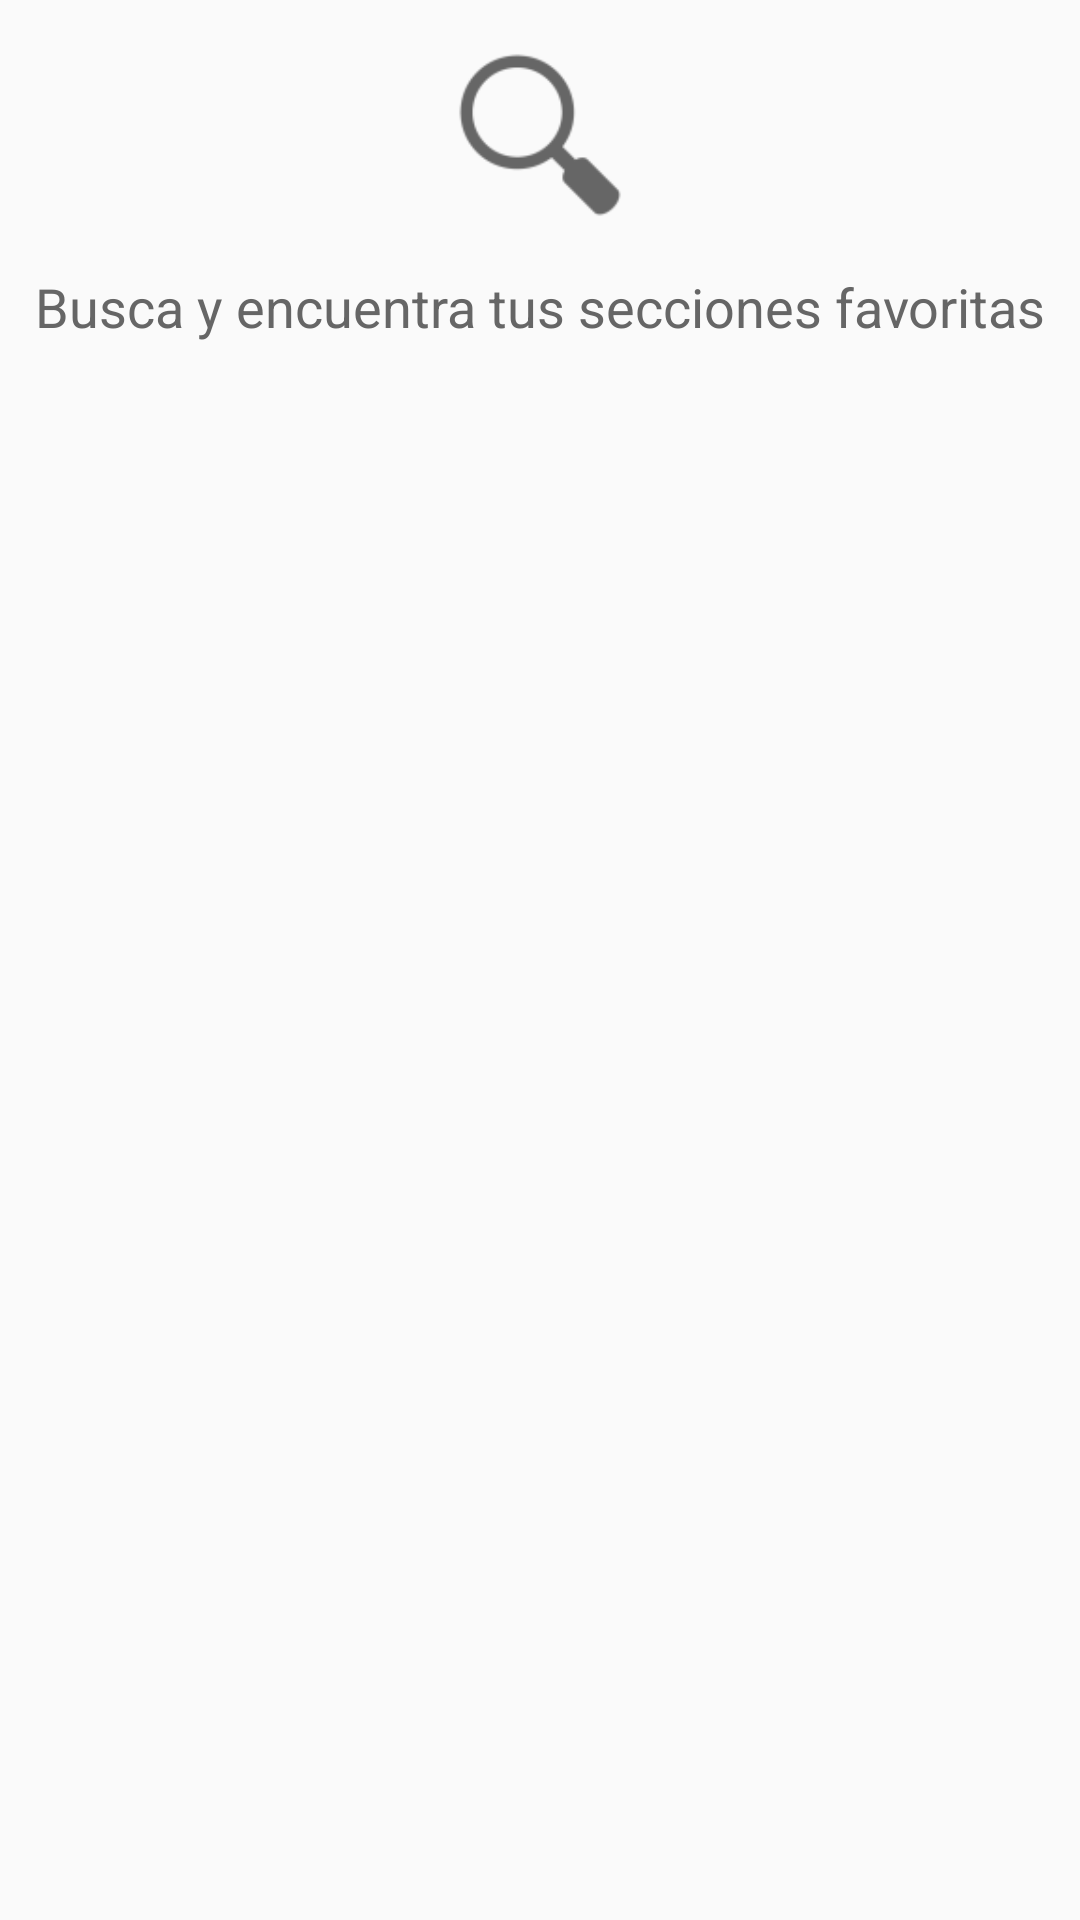

Where icons sit on this 1080px x 1920px app screen, as (x1, y1, x2, y2):
search gris: (459, 54, 621, 216)
